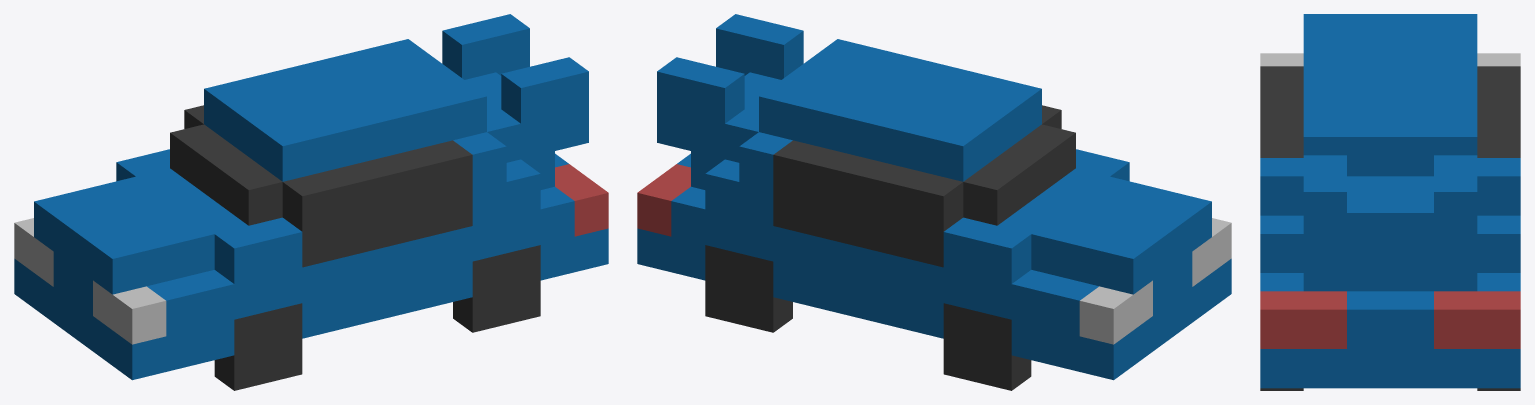
File: racer-v5-blue.gltf
The picture shows the model from 3 angles, left to right: view 1: azimuth 30°, elevation 25°; view 2: azimuth 150°, elevation 25°; view 3: azimuth 270°, elevation 25°; orthographic projection. The views are drawn at different scales.
Parts seen in each view (by area): view 1: model, wheels; view 2: model, wheels; view 3: model, wheels.
Part boxes in pixels (x1,y1,x2,y2): model: (14,14,608,380); wheels: (214,245,540,390); model: (637,14,1231,380); wheels: (705,245,1031,390); model: (1260,14,1520,388); wheels: (1260,388,1520,390).
Size of the model in its own units: 1.4 by 0.6 by 0.6.
2 materials, 2 textured.
